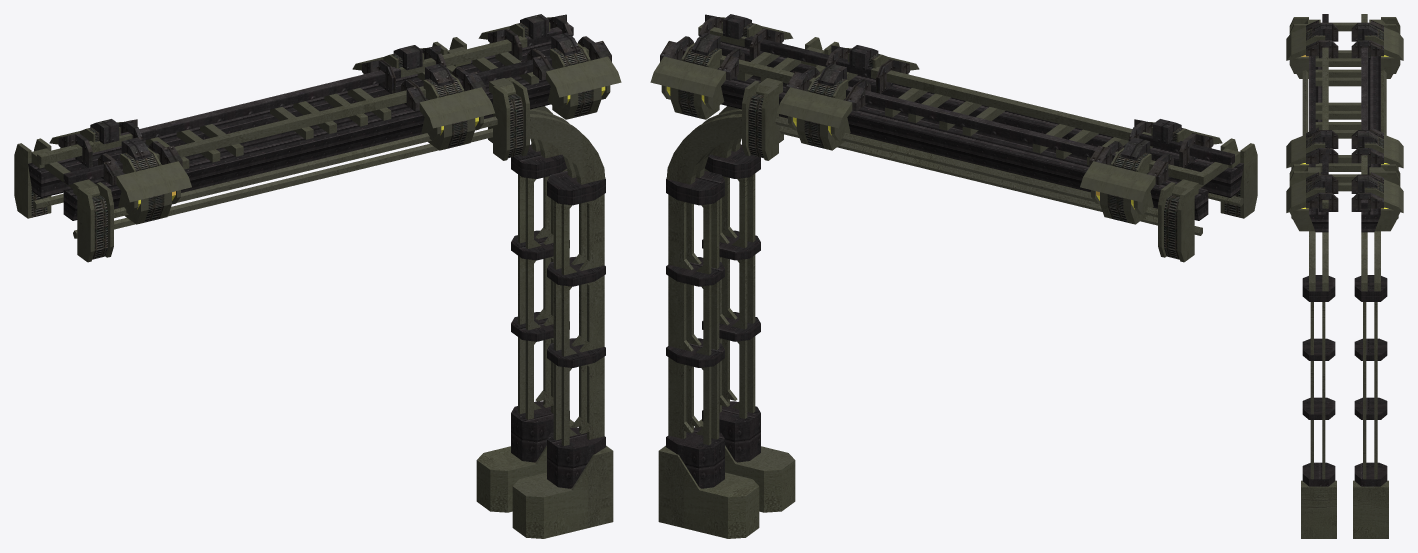
Rendered from bridgeEnd1.fbx.
3 views of the same model, side by side, from view 1: azimuth 30°, elevation 25°; view 2: azimuth 150°, elevation 25°; view 3: azimuth 270°, elevation 25° (orthographic). The views are drawn at different scales.
Visible parts, largest first — view 1: Object; view 2: Object; view 3: Object.
Boxes of the visible parts, x1,y1,x2,y2 form: Object: (14, 14, 621, 538); Object: (650, 14, 1257, 538); Object: (1286, 14, 1403, 538).
Size of the model in its own units: 3425 by 2950 by 900.
